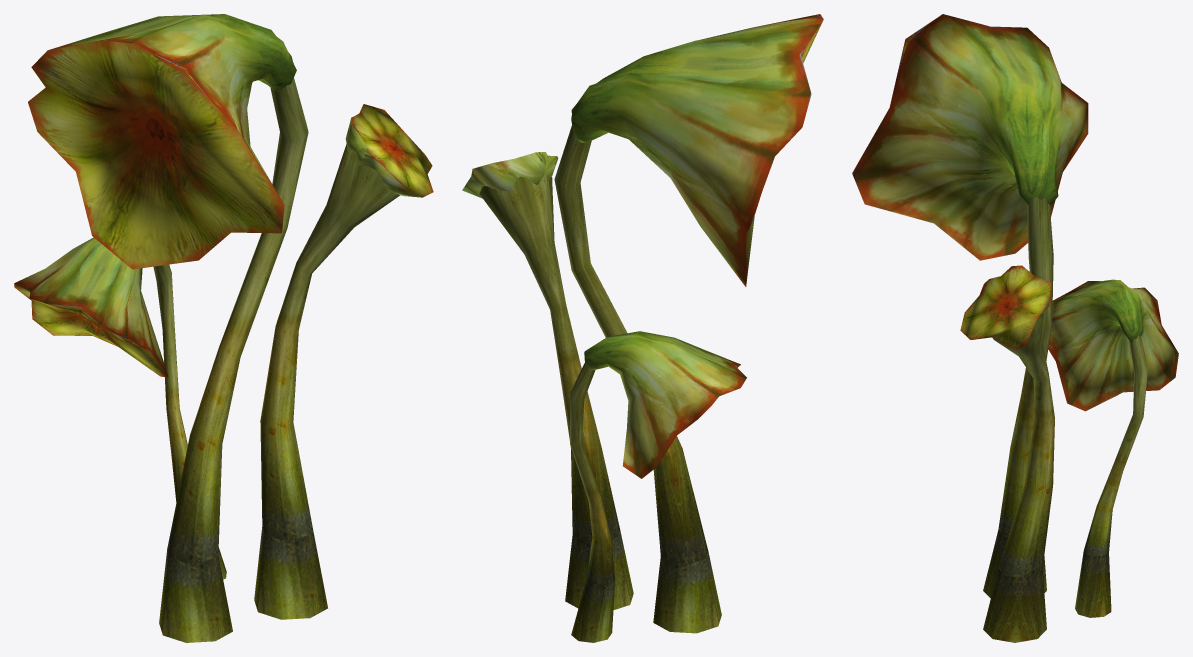
File: mushroomc_01.glb
3 renders of one model, left to right at view 1: azimuth 30°, elevation 25°; view 2: azimuth 150°, elevation 25°; view 3: azimuth 270°, elevation 25°, orthographic. The views are drawn at different scales.
Parts seen in each view (by area): view 1: mushroomC_01; view 2: mushroomC_01; view 3: mushroomC_01.
Part boxes in pixels (<box>): mushroomC_01: <box>14,14,433,642</box>; mushroomC_01: <box>462,14,823,642</box>; mushroomC_01: <box>852,14,1178,642</box>.
Bounding box in the file's own units: 7.32 × 11.75 × 6.51.
Materials: 1 (1 with a texture image).
